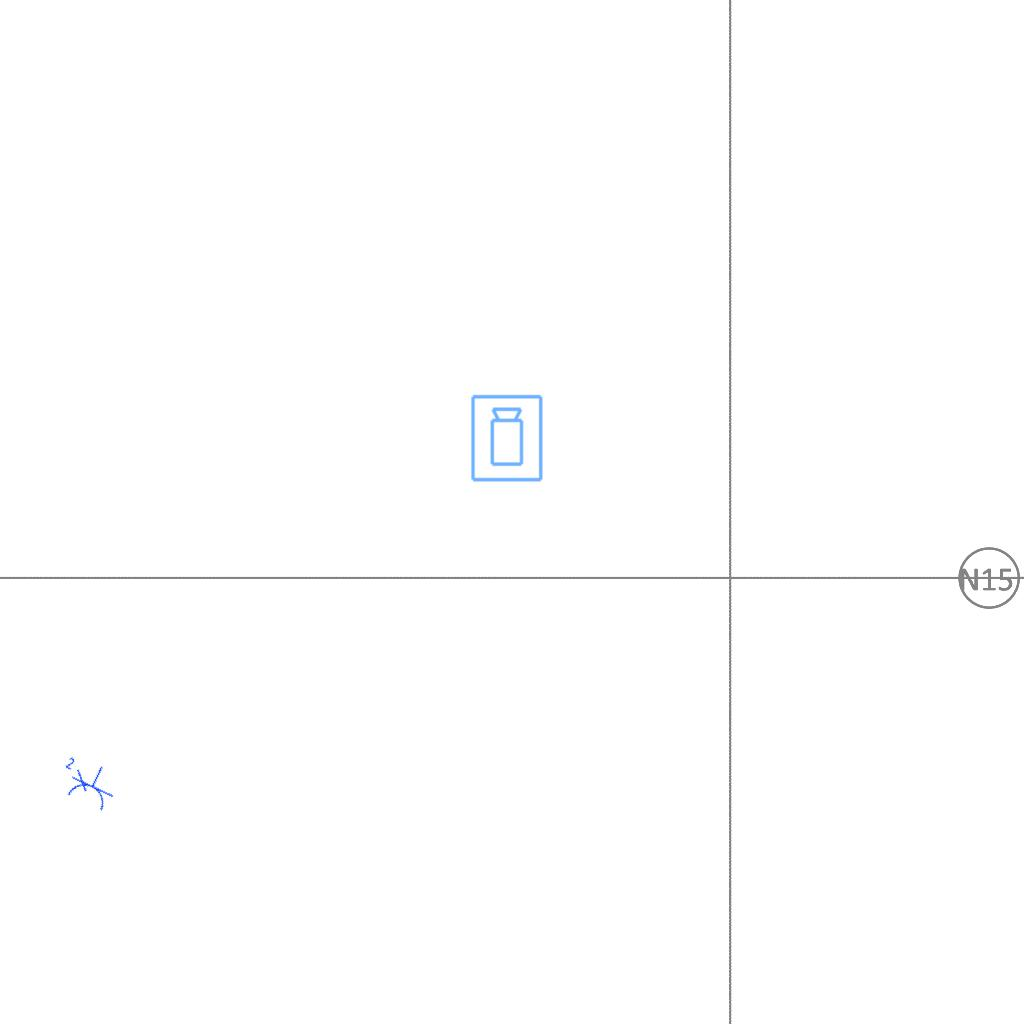KFO_Kamera_mit_Festobjektiv: (469, 393, 546, 484)
Schukosteckdose_mehrfach: (50, 750, 124, 816)
